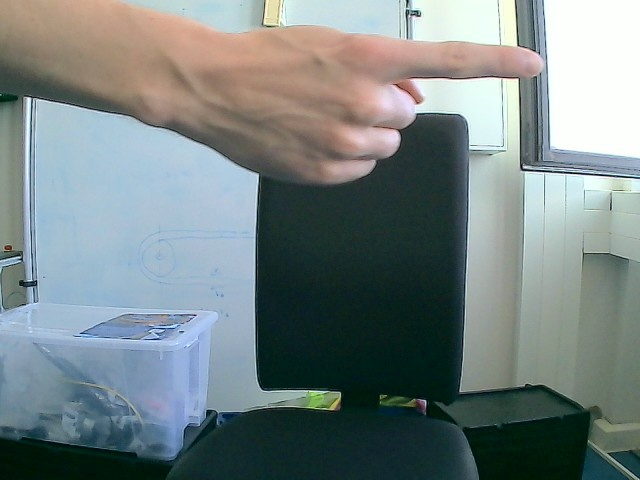left: (170, 23, 546, 187)
